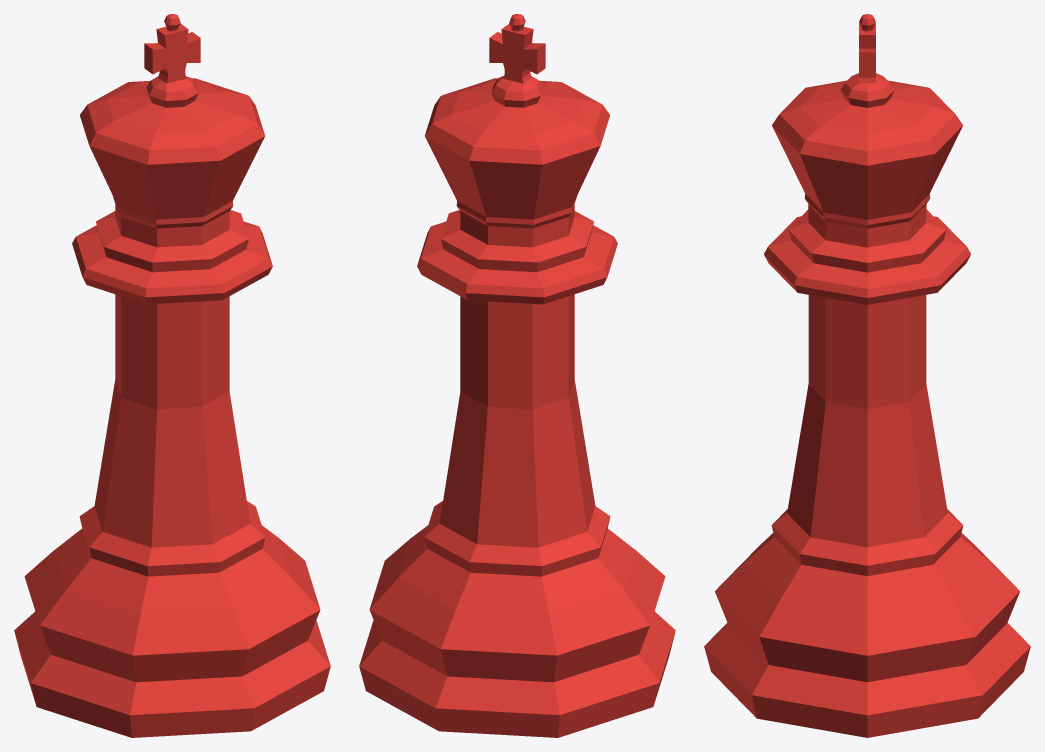
3 renders of one model, left to right at view 1: azimuth 30°, elevation 25°; view 2: azimuth 150°, elevation 25°; view 3: azimuth 270°, elevation 25°, orthographic.
Visible parts, largest first — view 1: KingL-Visual; view 2: KingL-Visual; view 3: KingL-Visual.
Boxes of the visible parts, x1,y1,x2,y2 form: KingL-Visual: (14,14,330,737); KingL-Visual: (359,14,675,737); KingL-Visual: (704,14,1030,737).
Size of what is drawn, in the model's own units: 1.67 by 3.7 by 1.67.
